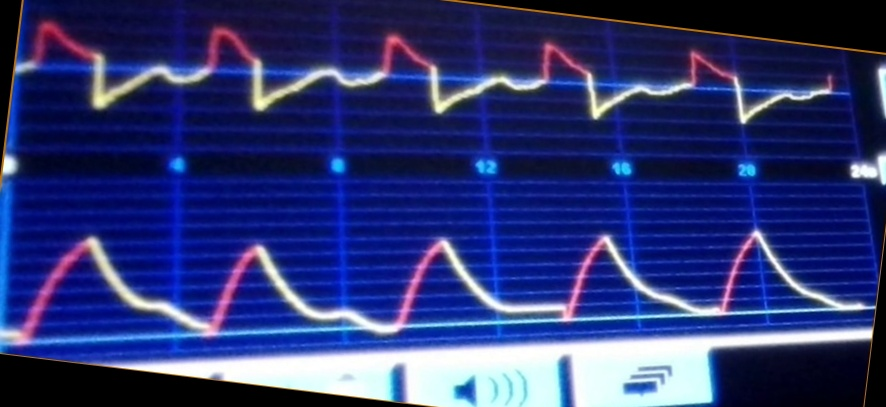Ineffective_effort Flow: (21, 14, 837, 141)
Ineffective_effort Volume: (5, 224, 866, 338)
